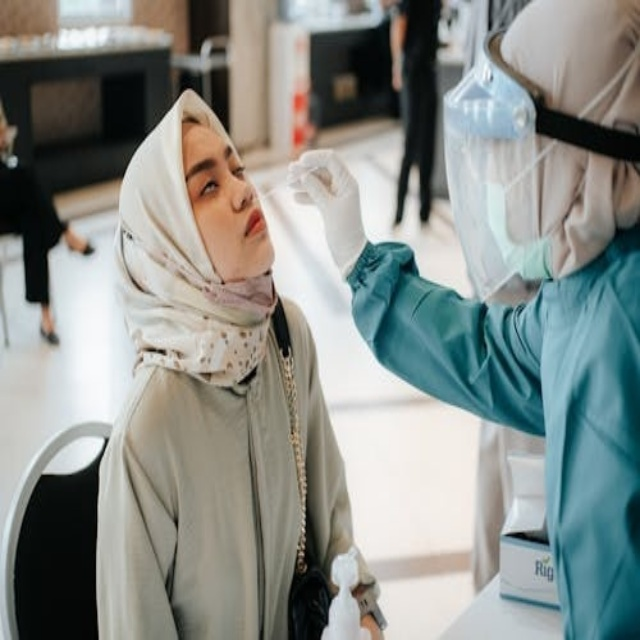Guantes: (283, 144, 379, 277)
Mascara: (474, 171, 590, 292)
Sin_gafas: (180, 136, 251, 204)
Sin_mascara: (219, 202, 270, 269)
